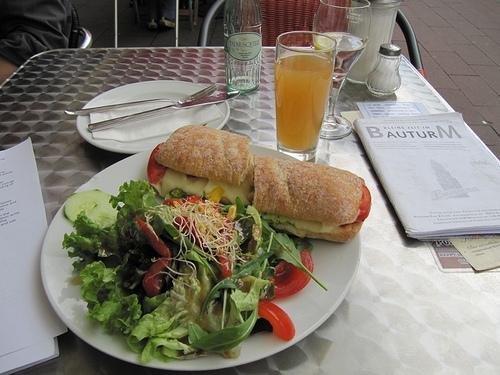bell pepper: (136, 215, 170, 298), (270, 249, 314, 298), (258, 300, 296, 340), (218, 252, 232, 279), (205, 186, 225, 198), (163, 198, 183, 208)
cucumber: (63, 189, 119, 229)
lettuce: (127, 260, 222, 354), (79, 252, 142, 334), (62, 209, 127, 270), (116, 221, 162, 264), (230, 275, 270, 311), (109, 179, 150, 213), (179, 250, 220, 282), (162, 346, 206, 360)
tomato: (137, 214, 171, 298), (268, 250, 314, 298), (258, 299, 295, 340), (148, 142, 168, 185), (352, 185, 372, 224), (218, 252, 232, 279), (163, 198, 184, 208), (182, 196, 206, 204)
